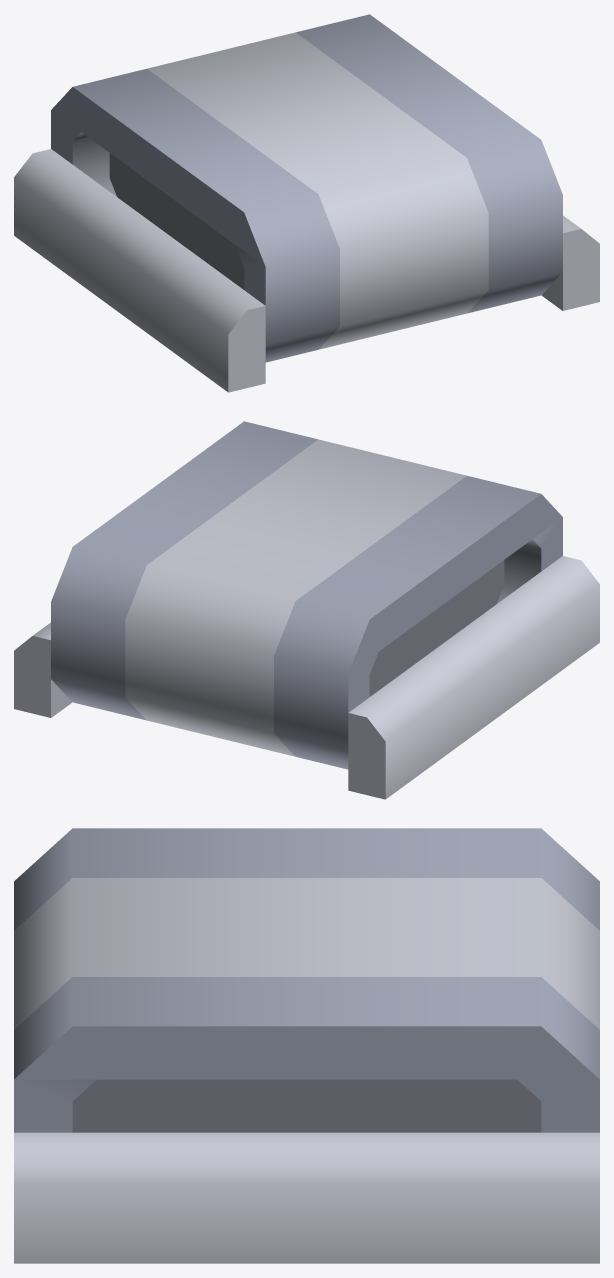
File: conveyor-stripe-sides.fbx
3 views of the same model, one above another, from view 1: azimuth 30°, elevation 25°; view 2: azimuth 150°, elevation 25°; view 3: azimuth 270°, elevation 25° (orthographic). The views are drawn at different scales.
Visible parts, largest first — view 1: Group.021, Group.020; view 2: Group.021, Group.020; view 3: Group.021, Group.020.
Part boxes in pixels (x1=…): Group.021: x1=51, y1=14, x2=562, y2=362; Group.020: x1=14, y1=149, x2=599, y2=392; Group.021: x1=51, y1=421, x2=562, y2=769; Group.020: x1=14, y1=556, x2=599, y2=799; Group.021: x1=14, y1=828, x2=599, y2=1132; Group.020: x1=14, y1=1132, x2=599, y2=1263.
Size of the model in its own units: 100 by 40 by 100.
